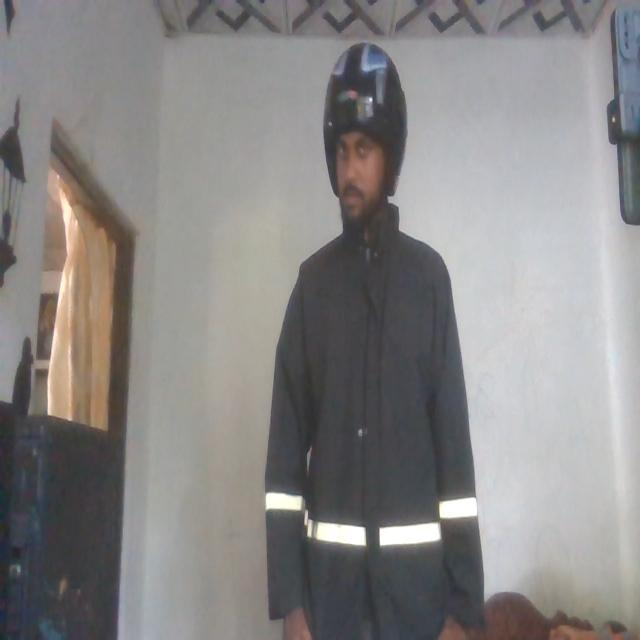Helmet_Wearer: (314, 43, 414, 237)
Jacket_Wearer: (262, 220, 478, 640)
Person: (253, 26, 489, 640)
